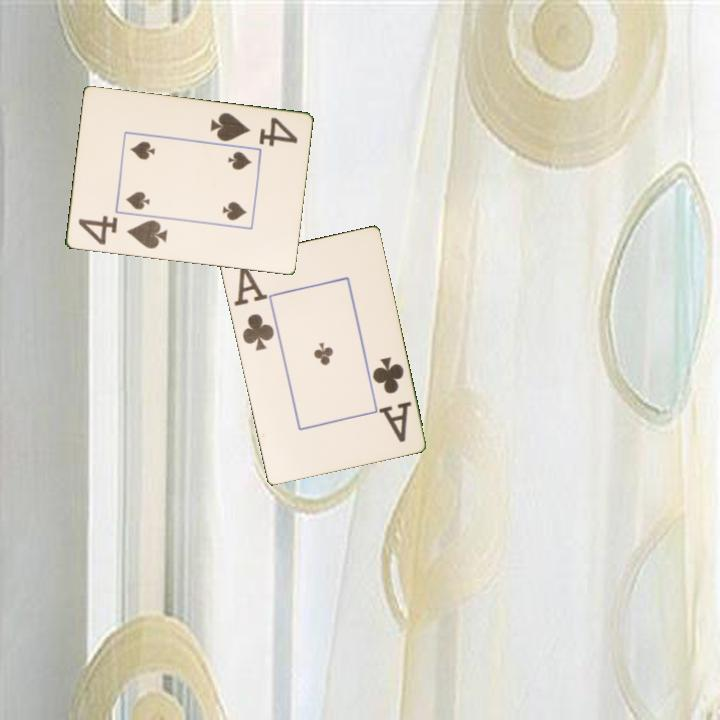4s: (75, 212, 170, 252), (206, 109, 300, 149)
Ac: (230, 260, 277, 354), (368, 353, 414, 445)
